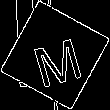M_N: (26, 24, 84, 86)
